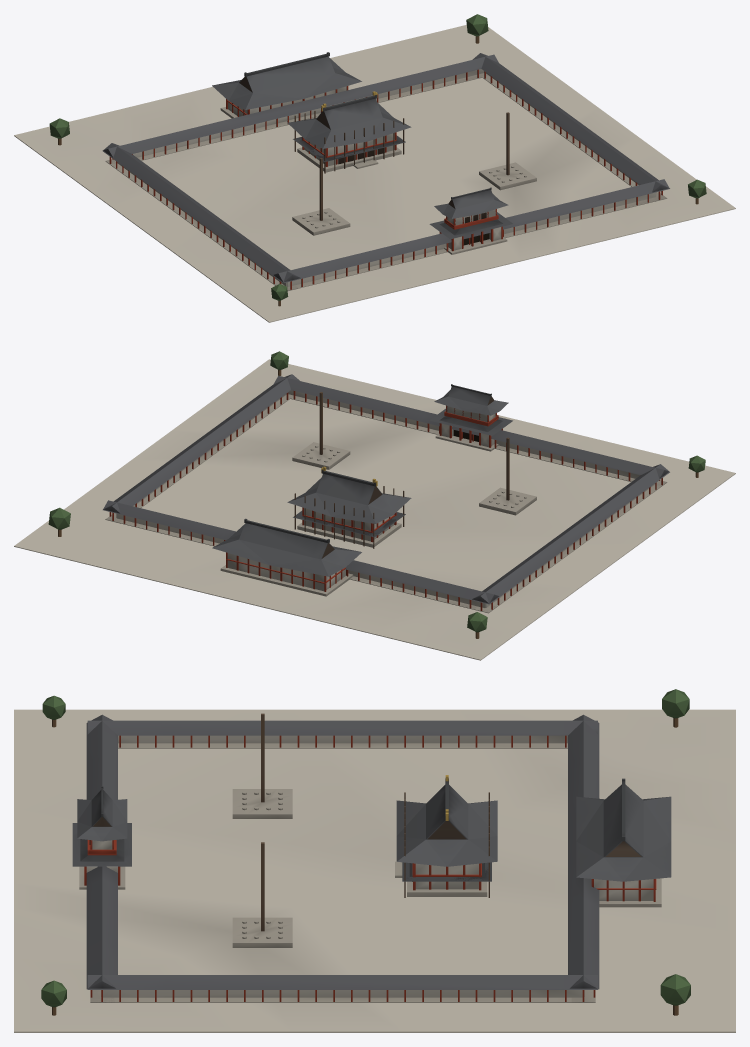
The model's file is yakushiji-720.glb.
3 renders of one model, top to bottom at view 1: azimuth 30°, elevation 25°; view 2: azimuth 150°, elevation 25°; view 3: azimuth 270°, elevation 25°, orthographic. The views are drawn at different scales.
Visible parts, largest first — view 1: p0_grounds, p1_halls, p2_roofs; view 2: p0_grounds, p1_halls, p2_roofs; view 3: p0_grounds, p1_halls, p2_roofs.
Boxes of the visible parts, left/top/right/bottom form: p0_grounds: left=14, top=25, right=735, bottom=322; p1_halls: left=102, top=53, right=669, bottom=290; p2_roofs: left=49, top=14, right=706, bottom=306; p0_grounds: left=14, top=359, right=735, bottom=660; p1_halls: left=103, top=374, right=669, bottom=613; p2_roofs: left=48, top=351, right=705, bottom=638; p0_grounds: left=14, top=709, right=735, bottom=1032; p1_halls: left=79, top=713, right=661, bottom=1002; p2_roofs: left=41, top=689, right=690, bottom=1015.
Size of the model in its own units: 190 by 25.6 by 180.
